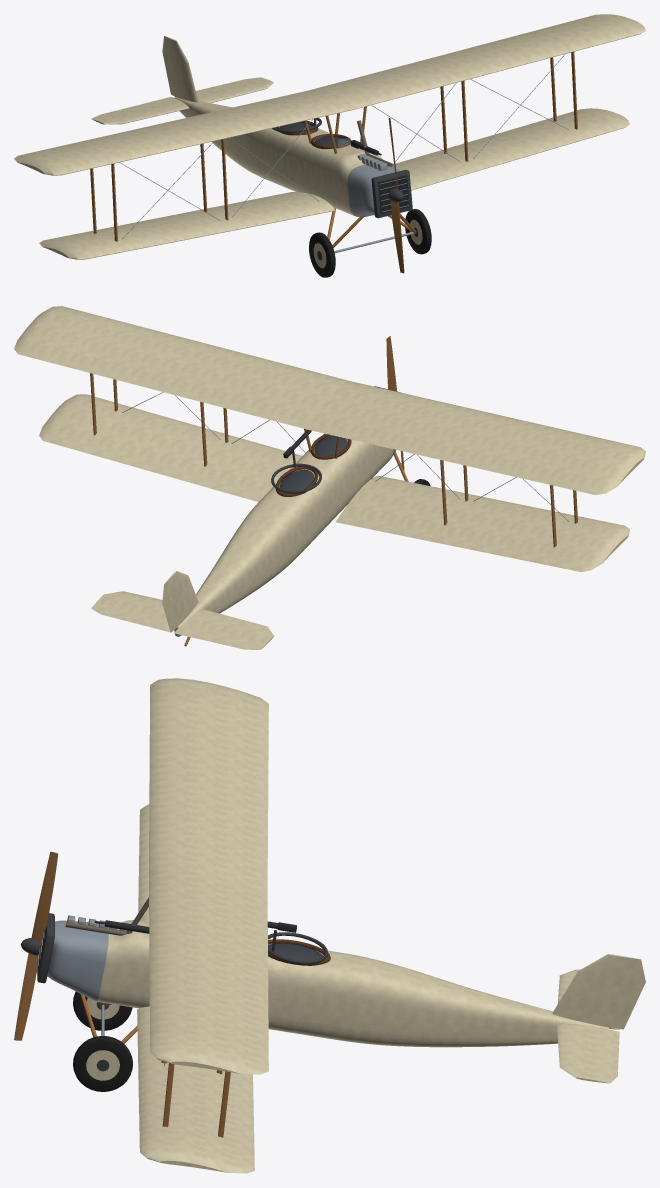
The model's file is two-seat-recon-biplane.glb.
3 views of the same model, one above another, from view 1: azimuth 30°, elevation 25°; view 2: azimuth 150°, elevation 25°; view 3: azimuth 270°, elevation 25° (orthographic). The views are drawn at different scales.
Parts seen in each view (by area): view 1: Two_Seat_Recon_Biplane, Wheel_R, Wheel_L, Propeller; view 2: Two_Seat_Recon_Biplane; view 3: Two_Seat_Recon_Biplane, Wheel_L, Propeller, Wheel_R.
Part boxes in pixels (left/top/right/bottom): Two_Seat_Recon_Biplane: left=14, top=14, right=645, bottom=259; Wheel_R: left=309, top=232, right=335, bottom=277; Wheel_L: left=405, top=209, right=431, bottom=254; Propeller: left=388, top=118, right=404, bottom=273; Two_Seat_Recon_Biplane: left=14, top=306, right=645, bottom=649; Two_Seat_Recon_Biplane: left=37, top=678, right=645, bottom=1173; Wheel_L: left=73, top=1036, right=132, bottom=1091; Propeller: left=14, top=851, right=58, bottom=1040; Wheel_R: left=73, top=991, right=132, bottom=1030.
Size of the model in its own units: 12 by 3.06 by 8.39.
Materials: 13 (1 with a texture image).
